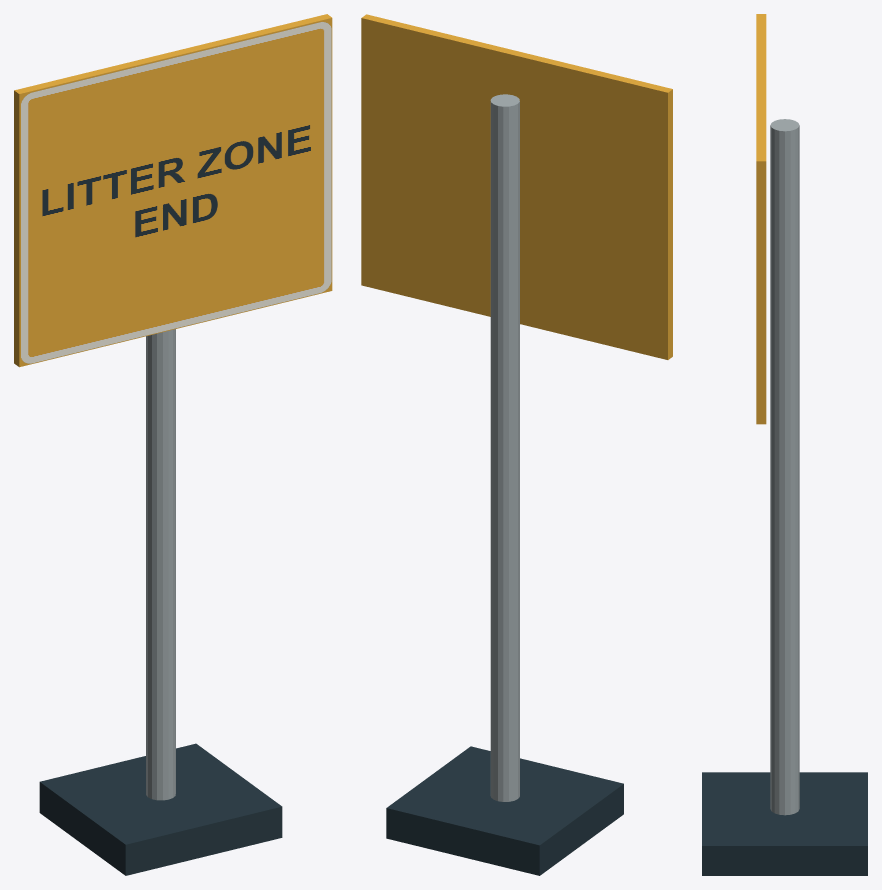
The model's file is scendance-plan-littering-end.glb.
The picture shows the model from 3 angles, left to right: view 1: azimuth 30°, elevation 25°; view 2: azimuth 150°, elevation 25°; view 3: azimuth 270°, elevation 25°; orthographic projection. The views are drawn at different scales.
Bounding box in the file's own units: 0.84 × 2 × 0.4.
Materials: 4 (1 with a texture image).
